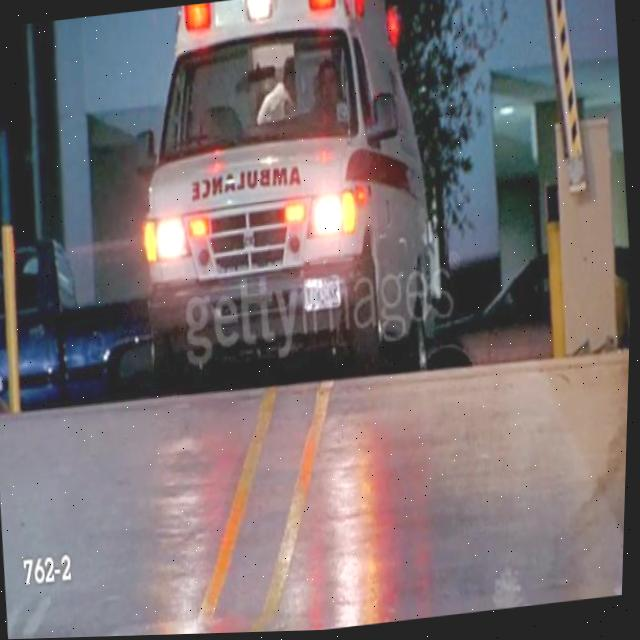emergency: (118, 0, 453, 403)
